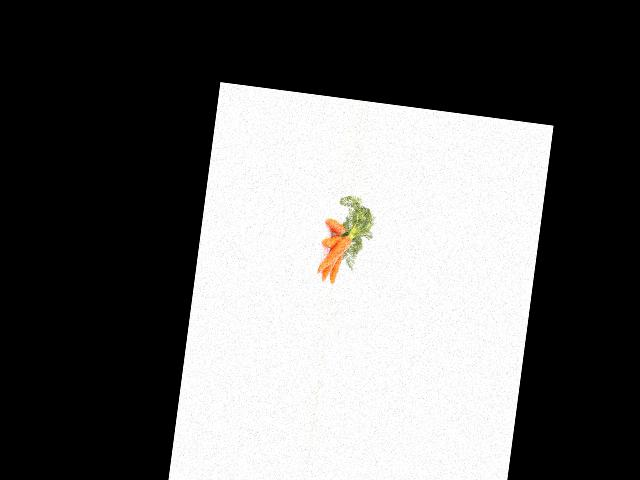carrot: (315, 227, 356, 276)
